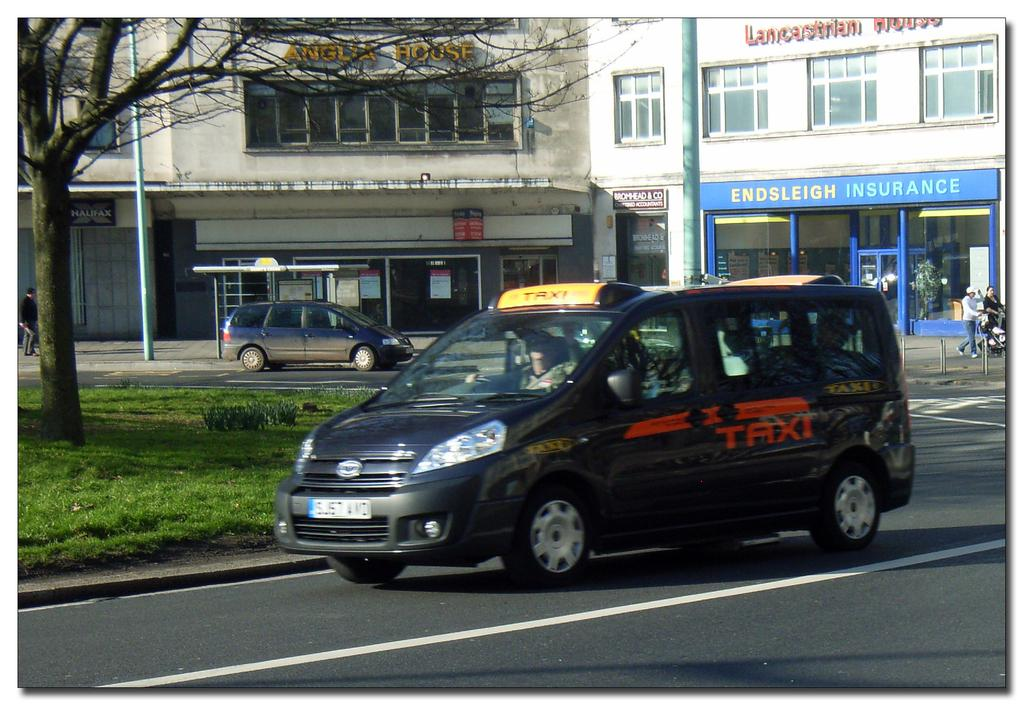vehicle: (274, 275, 918, 586), (221, 300, 414, 372)
